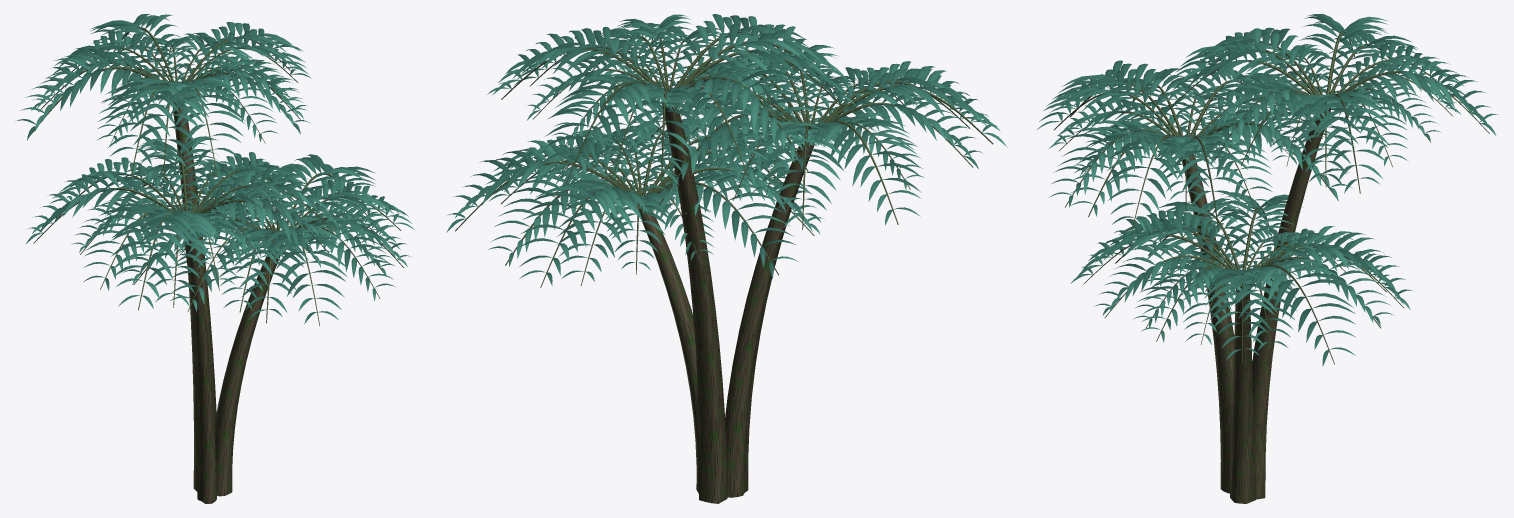
Rendered from Crown Fern.glb.
3 renders of one model, left to right at view 1: azimuth 30°, elevation 25°; view 2: azimuth 150°, elevation 25°; view 3: azimuth 270°, elevation 25°, orthographic. The views are drawn at different scales.
Visible parts, largest first — view 1: Crown Fern; view 2: Crown Fern; view 3: Crown Fern.
Boxes of the visible parts, x1,y1,x2,y2 form: Crown Fern: (15, 14, 414, 503); Crown Fern: (446, 14, 1007, 503); Crown Fern: (1037, 14, 1498, 503).
Size of the model in its own units: 13.65 by 14.1 by 13.59.
Materials: 3 (1 with a texture image).
